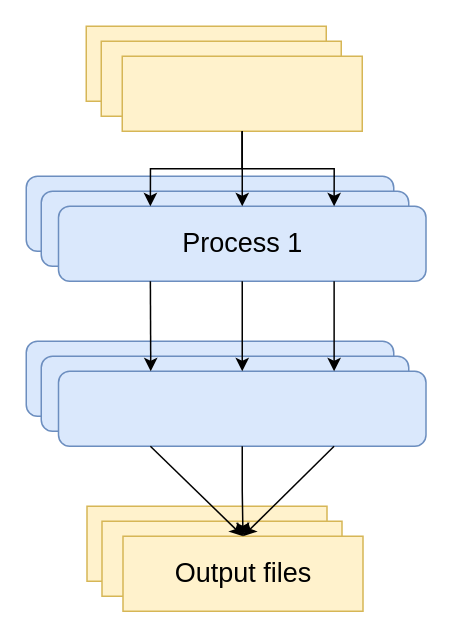
Some shapes in this 453 by 638 pixel diagram are drawn without their labels. The centre of each missing label's shape, as x and y in pixels:
Input files: point 241,93
Process 2: point 241,408
